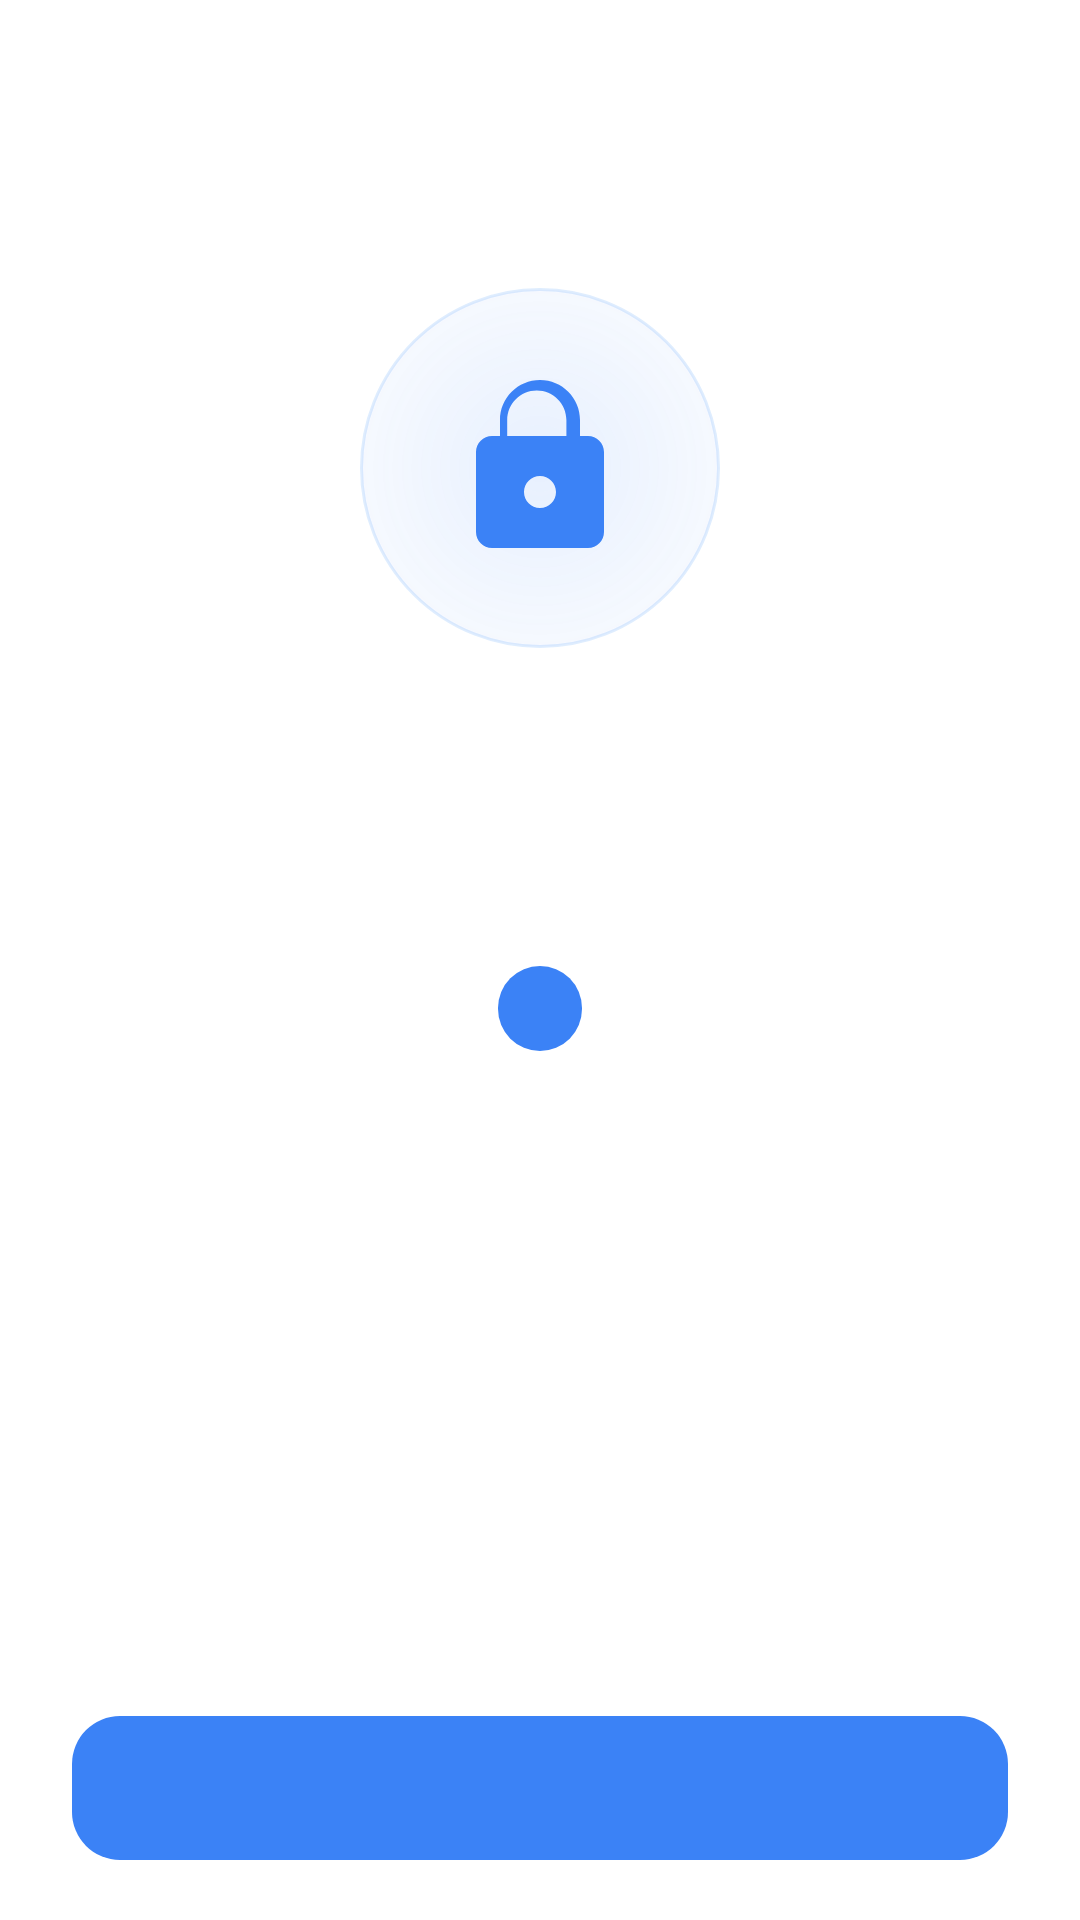

Point at icon controls on the screen. Image size 1080px×1920px, points as [x,y].
lock: [540,464]
